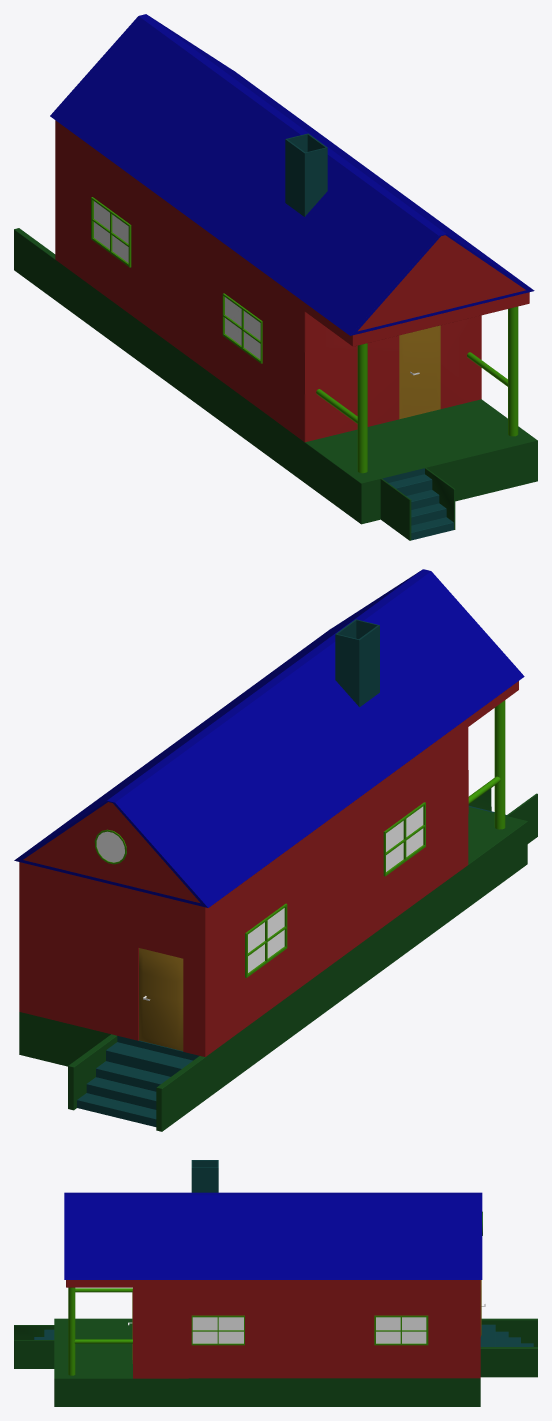
File: dom05.FBX
The picture shows the model from 3 angles, top to bottom: view 1: azimuth 30°, elevation 25°; view 2: azimuth 150°, elevation 25°; view 3: azimuth 270°, elevation 25°; orthographic projection. The views are drawn at different scales.
Parts seen in each view (by area): view 1: Box001, Box003, Cylinder001; view 2: Box001, Box003, Cylinder001, Cylinder003; view 3: Box001, Box003, Cylinder001.
Boxes of the visible parts, bbox=[...] form: Box001: bbox=[14, 120, 537, 540]; Box003: bbox=[50, 14, 534, 335]; Cylinder001: bbox=[316, 306, 518, 473]; Box001: bbox=[19, 619, 537, 1131]; Box003: bbox=[14, 569, 524, 907]; Cylinder001: bbox=[468, 700, 505, 829]; Cylinder003: bbox=[94, 829, 126, 864]; Box001: bbox=[14, 1160, 537, 1406]; Box003: bbox=[64, 1192, 482, 1279]; Cylinder001: bbox=[68, 1287, 132, 1375].
Bounding box in the file's own units: 209 × 312 × 738.
